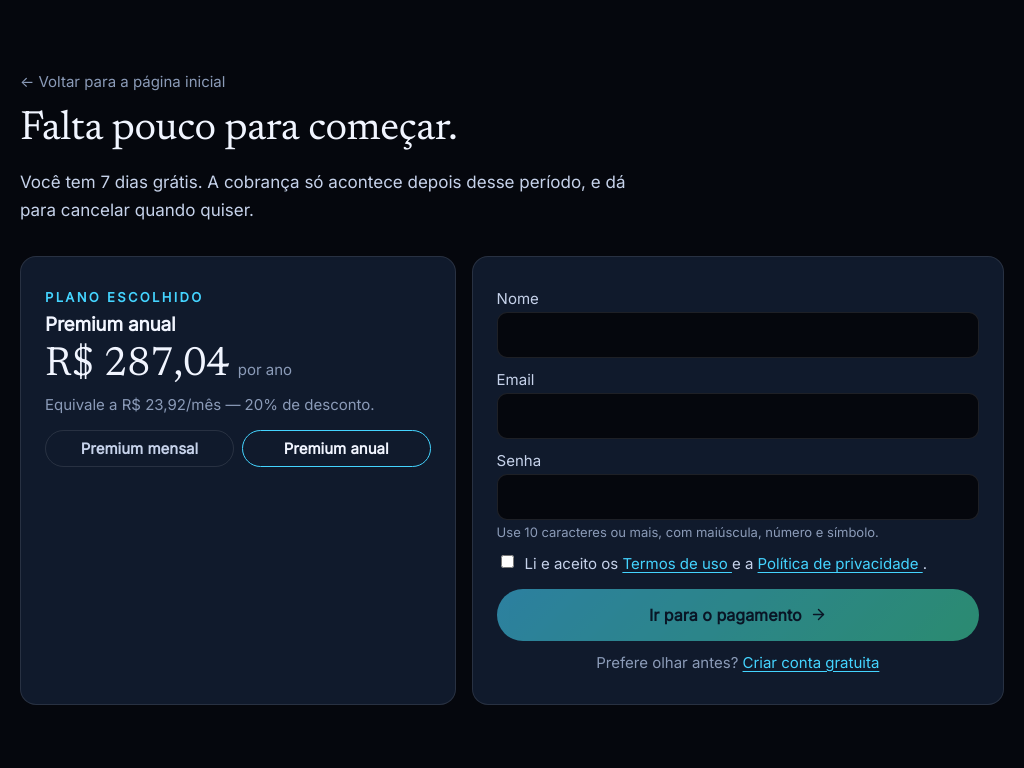
Test: landing checkout page › never leaves the button stuck when something unexpected throws
Type "Italo" into the field with test id "landing-checkout-name". click: (738, 335)
box: [497,312,979,358]
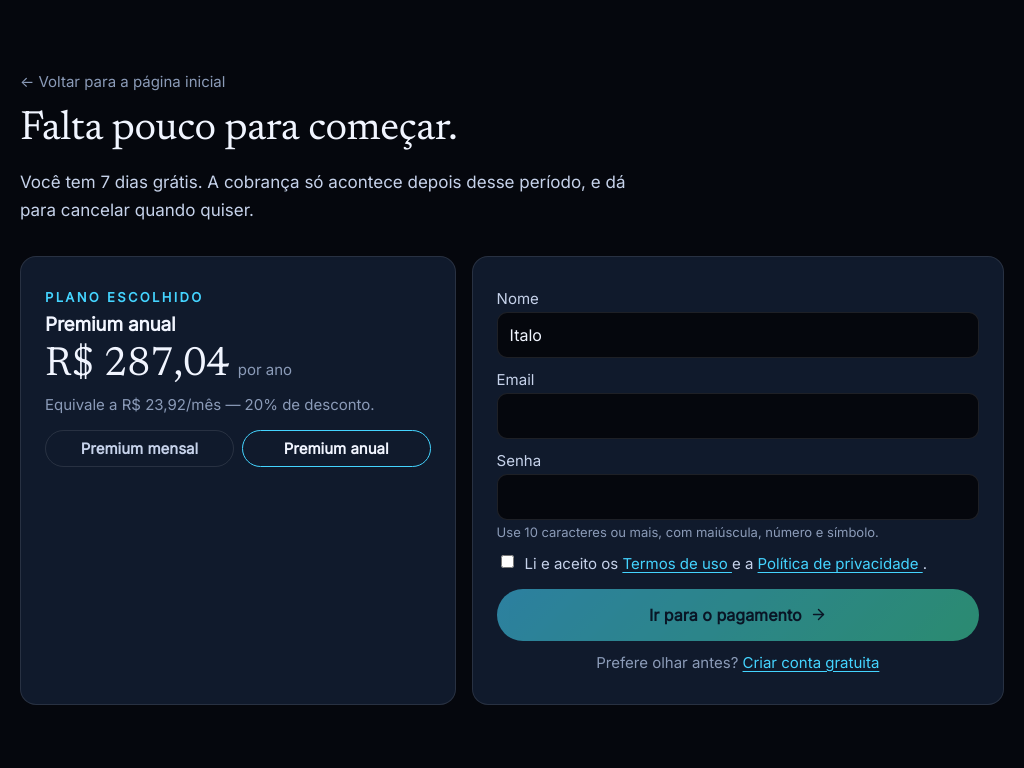
Type "italo@auraxis.com.br" into the field with test id "landing-checkout-email". click: (738, 416)
box: [497,393,979,439]
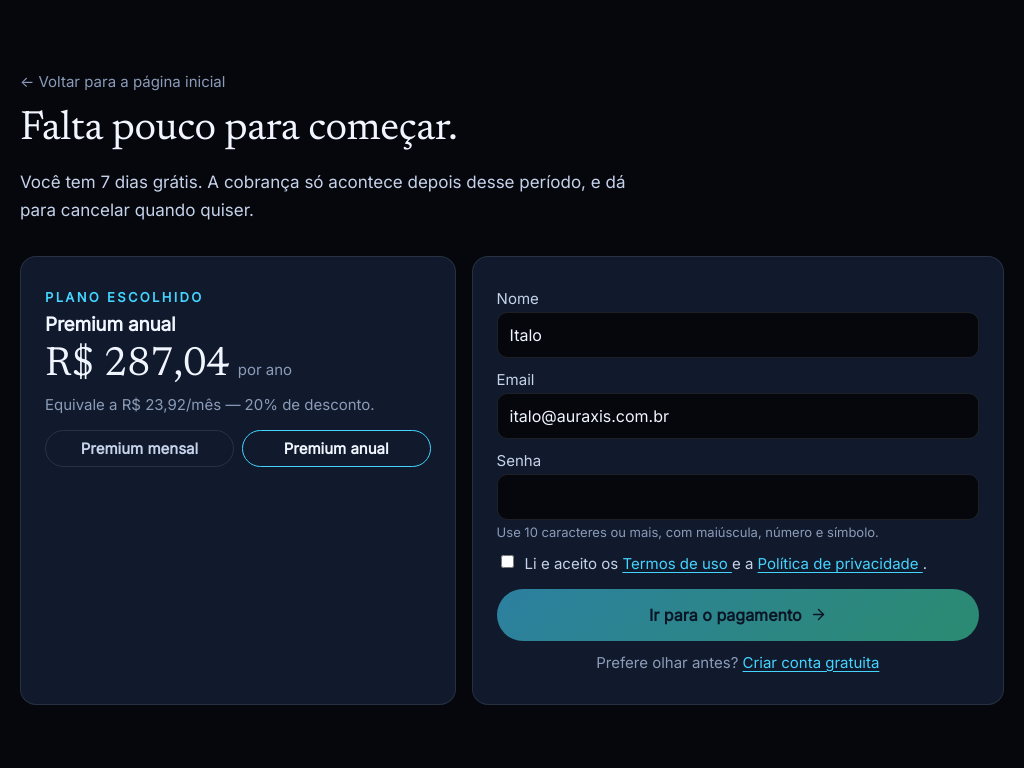
Type "Senha!Forte-123" into the password field with test id "landing-checkout-password". click: (738, 497)
box: [497,474,979,520]
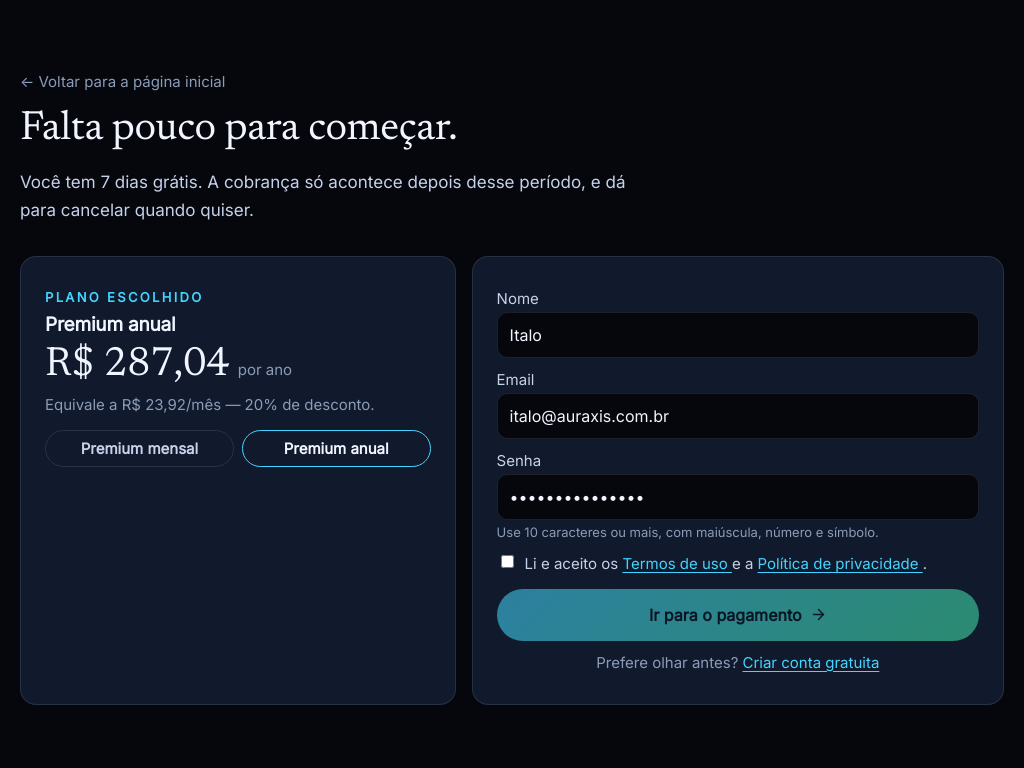
Click the checkbox with test id "landing-checkout-terms". click: (507, 561)
box: [501,555,514,568]
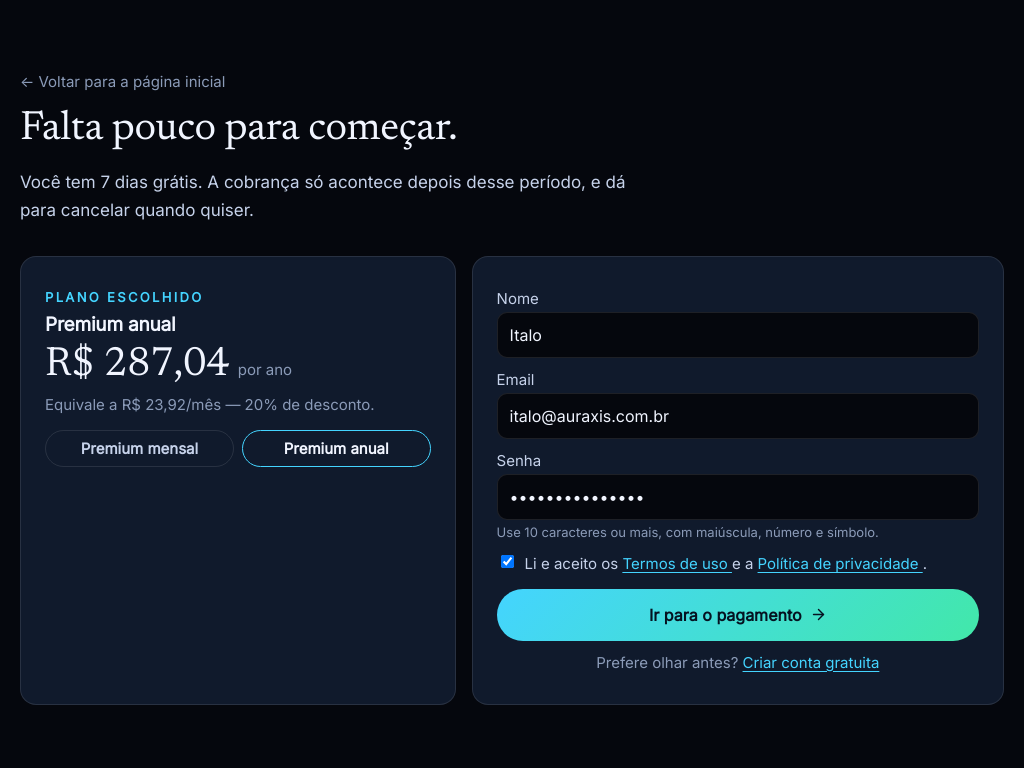
Submit the form, box [497,289,979,672]
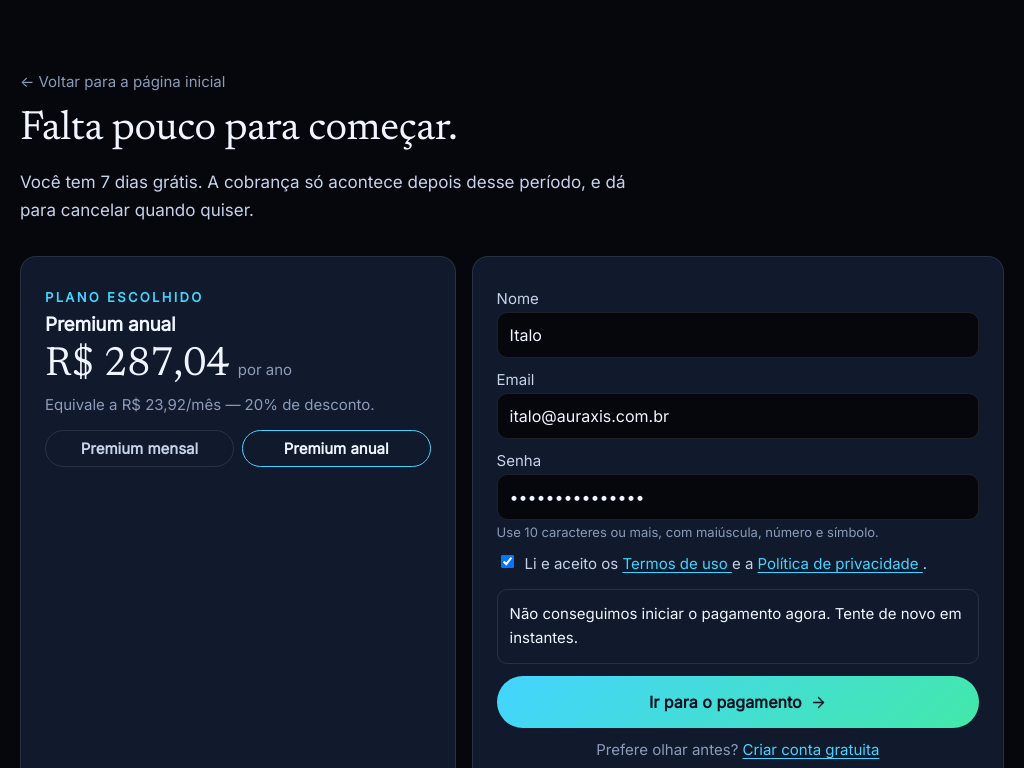
Check: the message "Não conseguimos iniciar o pagamento agora. Tente de novo em instantes." is shown, box [497,589,979,664]
